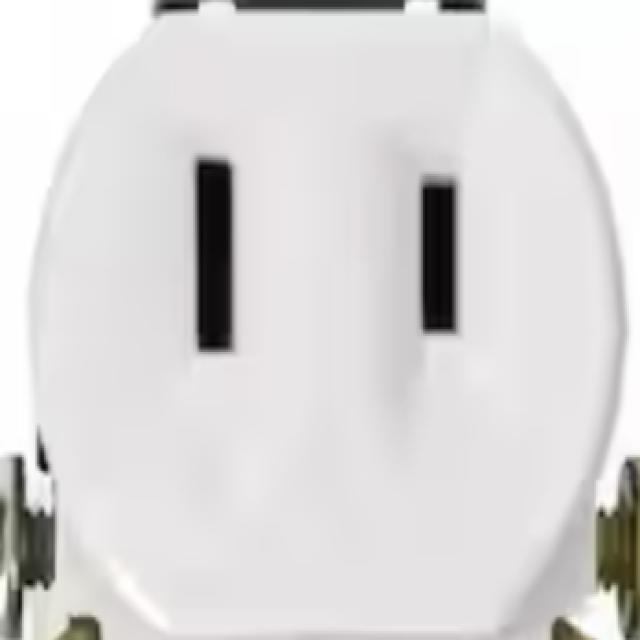type_a: (24, 11, 621, 639)
